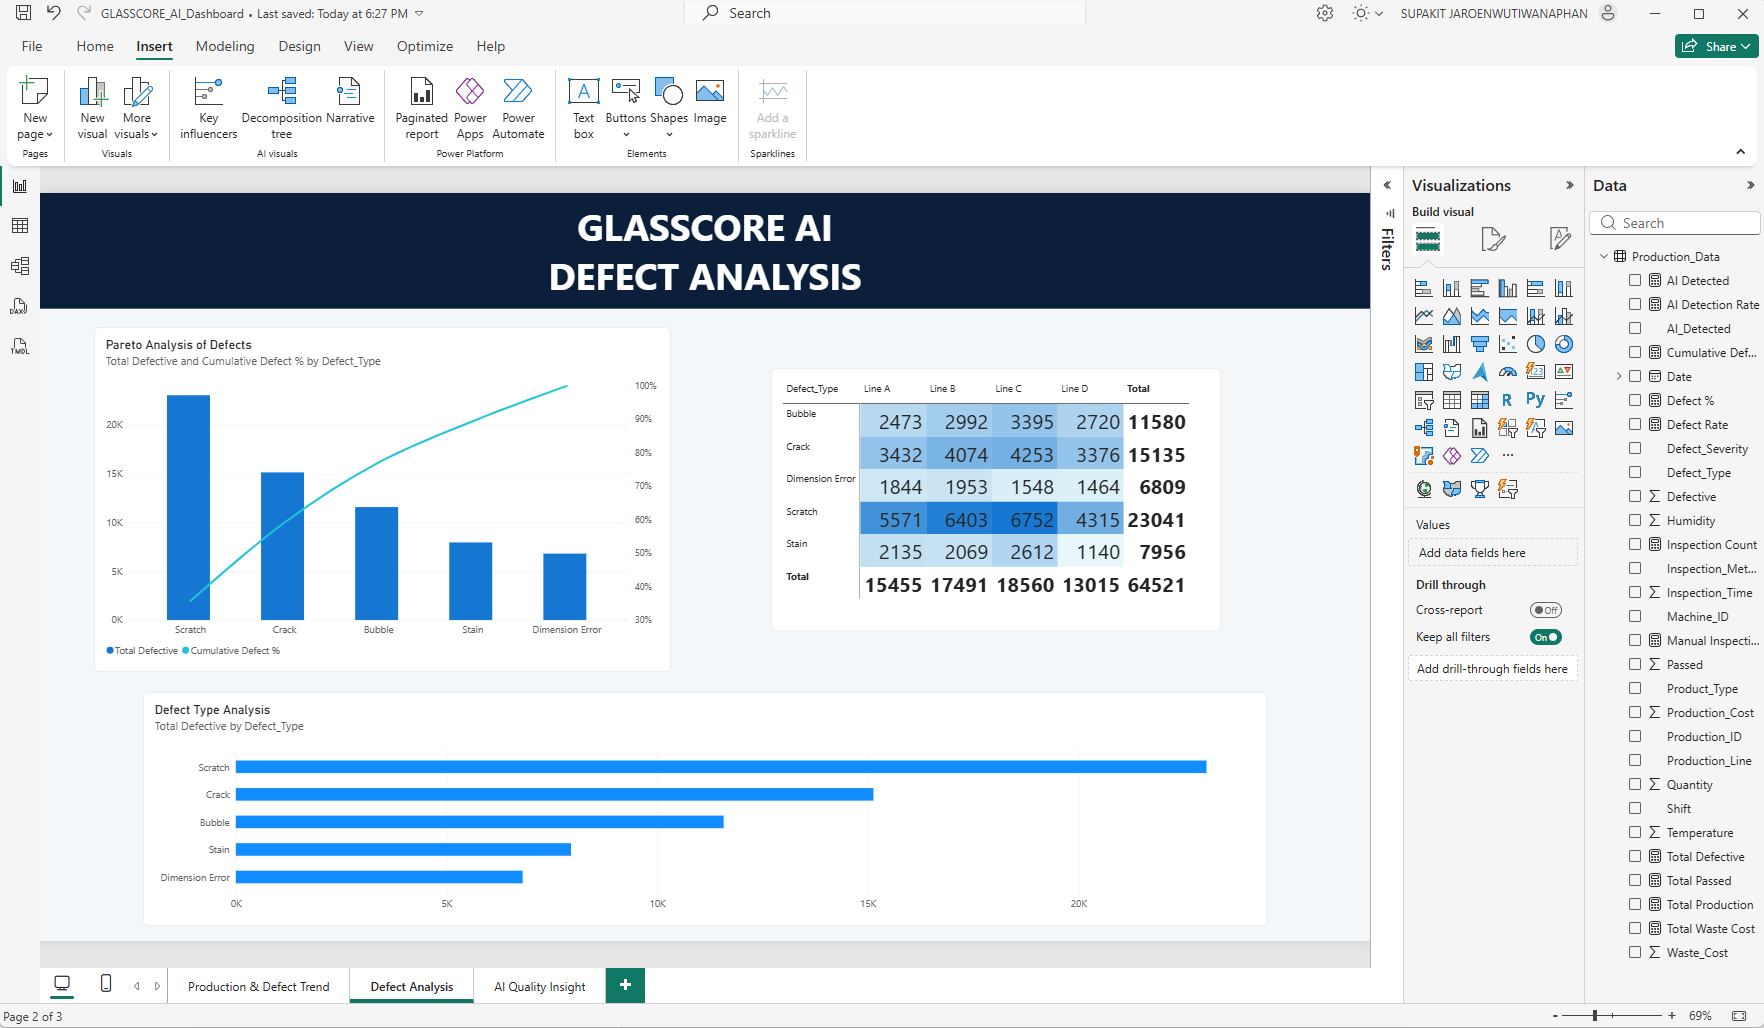

The page's visual inventory and layout, read from the dashboard file:
{"tool":"powerbi","page":{"name":"Defect Analysis","canvas":[1920,1080],"ordinal":1},"visuals":[{"type":"shape","box":[0,0,1920,167.5],"z":0},{"type":"textbox","box":[0,11.5,1920,155.9],"z":1000},{"type":"clusteredBarChart","title":"Defect Type Analysis","fields":{"Category":["Production_Data.Defect_Type"],"Y":["Production_Data.Total Defective"]},"box":[148.7,720.4,1622.6,337.8],"z":2000},{"type":"pivotTable","fields":{"Columns":["Production_Data.Production_Line"],"Rows":["Production_Data.Defect_Type"],"Values":["Production_Data.Total Defective"]},"box":[1055.3,252.6,649.6,379.7],"z":3000},{"type":"lineClusteredColumnComboChart","title":"Pareto Analysis of Defects","fields":{"Category":["Production_Data.Defect_Type"],"Y":["Production_Data.Total Defective"],"Y2":["Production_Data.Cumulative Defect %"]},"box":[78,193.4,833,498],"z":4000}]}

Visuals, with their boxes on the page's 1920x1080 design canvas (x1, y1, x2, y2). These are canvas units, not pixel positions in the 1764x1028 screenshot, which may show the page scaled, cropped or inside an application window:
shape: region(0, 0, 1920, 168)
textbox: region(0, 12, 1920, 167)
"Defect Type Analysis" clusteredBarChart: region(149, 720, 1771, 1058)
pivotTable - Production_Data.Production_Line x Production_Data.Defect_Type: region(1055, 253, 1705, 632)
"Pareto Analysis of Defects" lineClusteredColumnComboChart: region(78, 193, 911, 691)
